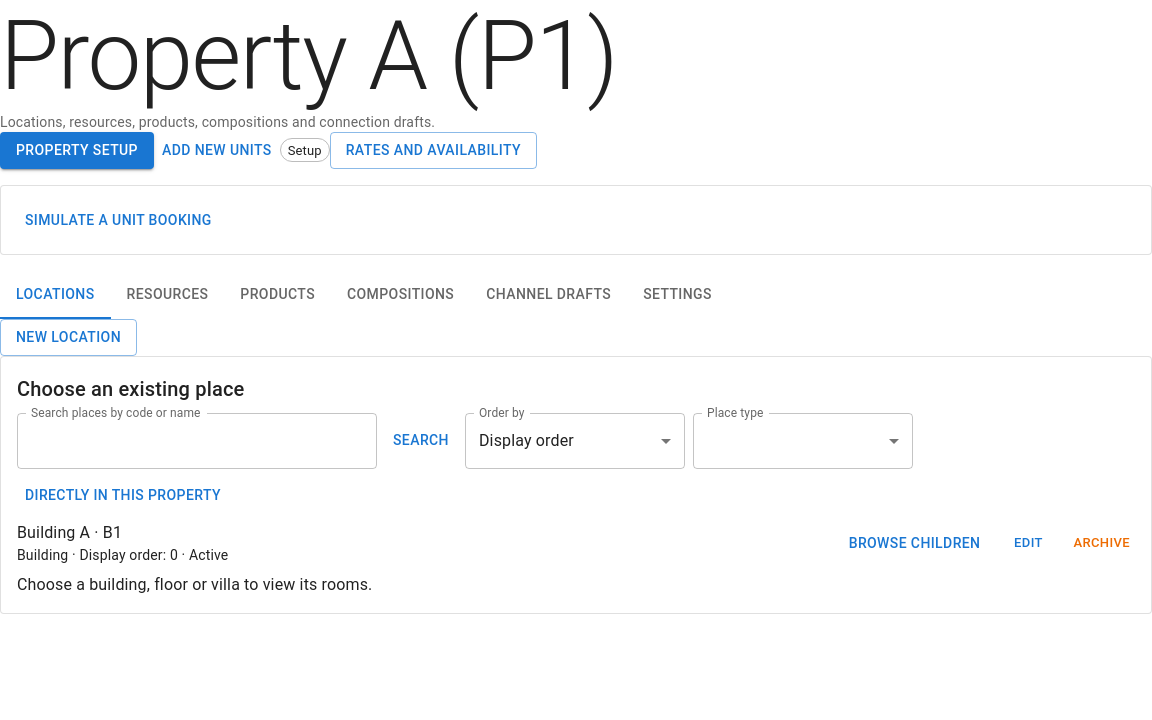
Scenario: independent: descendants stay forbidden as parents on every loaded page
Click the button "Edit".
click(1028, 543)  # box x1=996 y1=528 x2=1060 y2=558
(page scrolled)
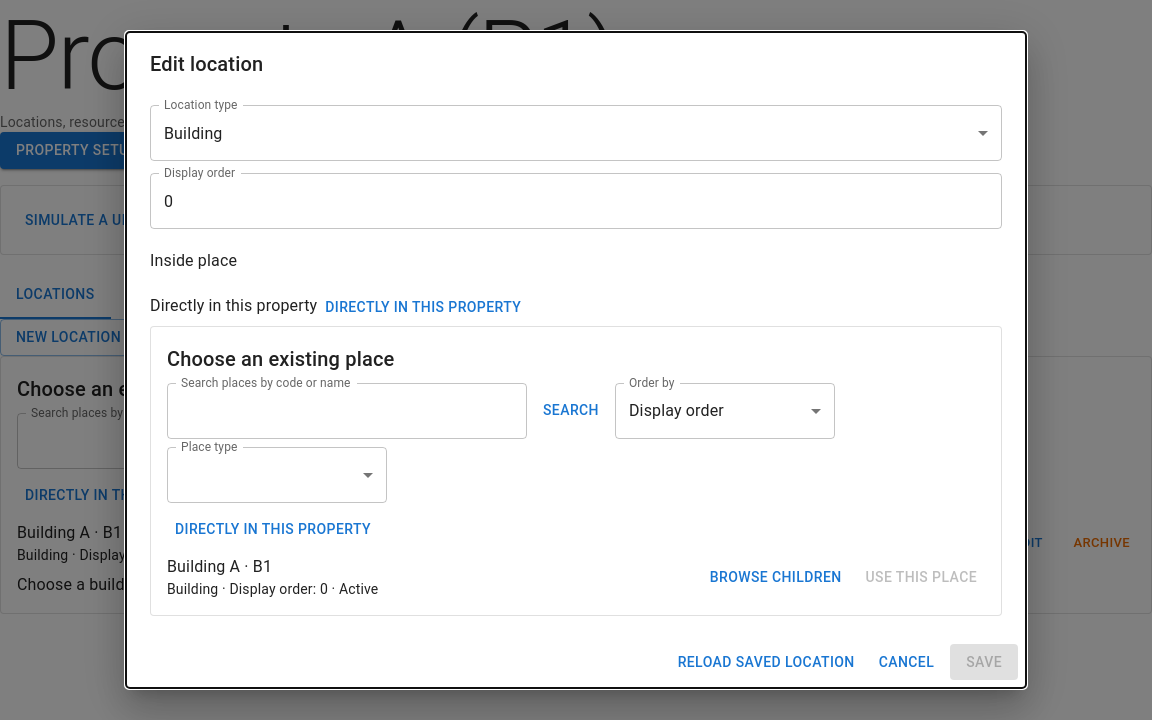
Now the button "Use this place" is disabled, box x1=858 y1=559 x2=985 y2=595
Click the button "Browse children".
click(776, 577)  # box x1=702 y1=559 x2=850 y2=595
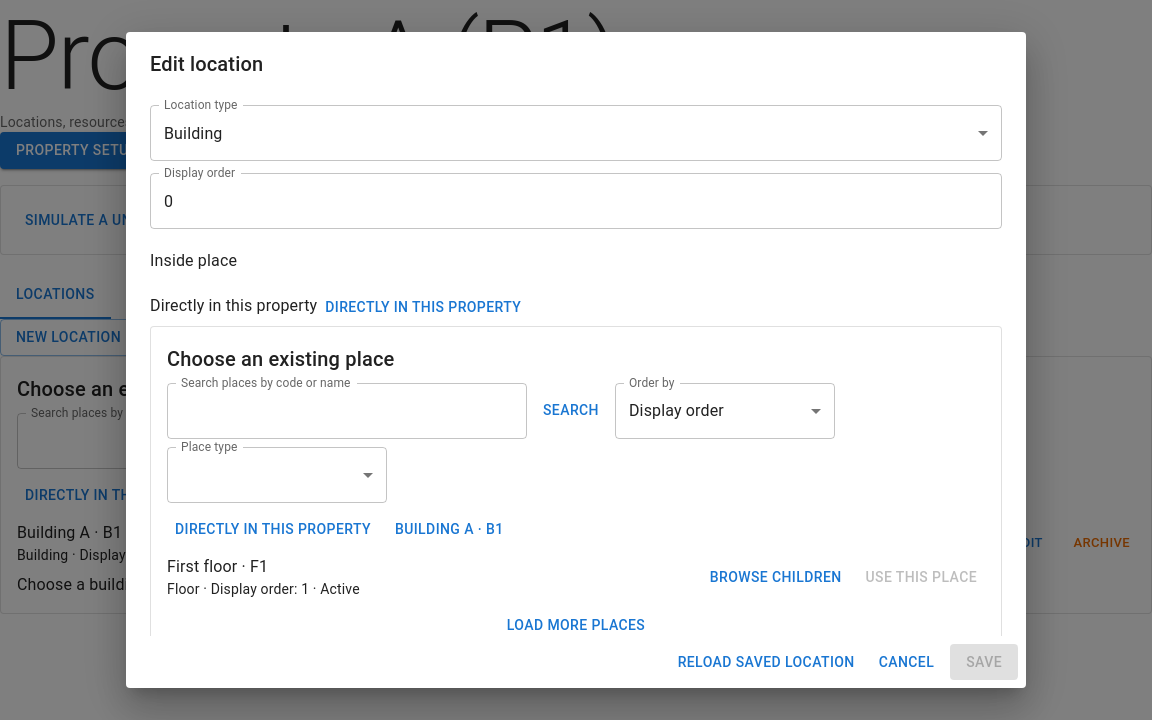
Now the text "First floor · F1" is shown, box x1=167 y1=557 x2=360 y2=597
Click the button "Load more places".
click(576, 625)  # box x1=167 y1=607 x2=985 y2=644
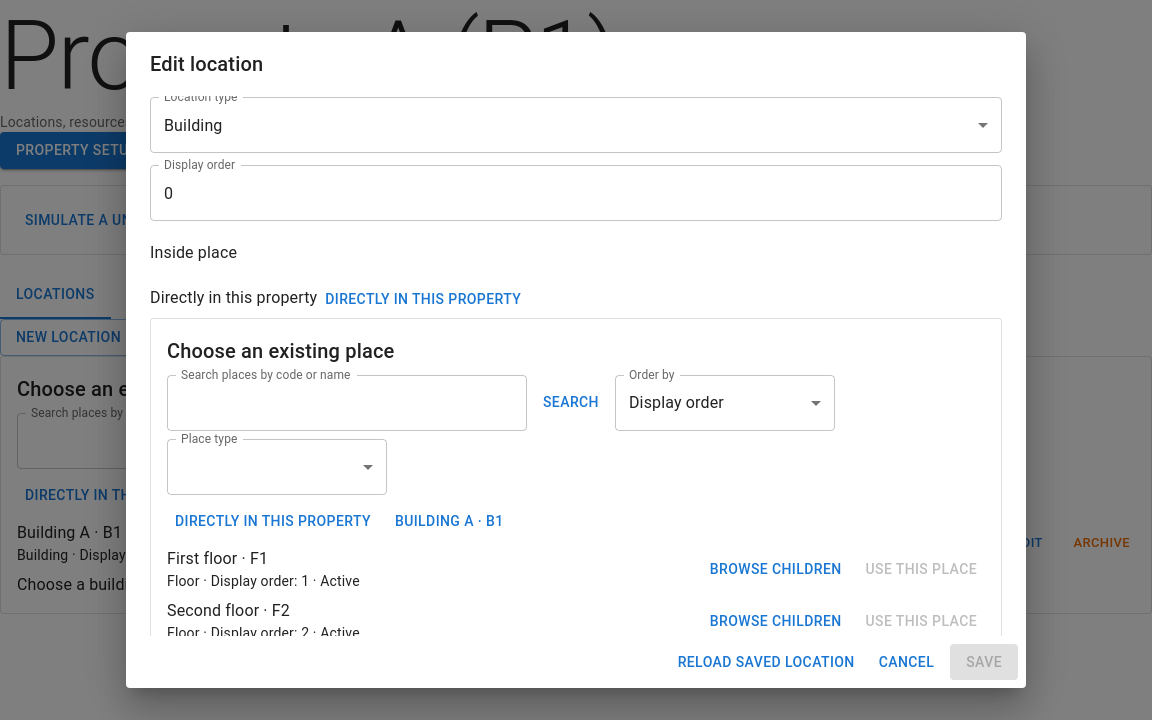
Now the button "Use this place" in the row of "F1" is disabled, box x1=858 y1=551 x2=985 y2=587
Now the text "Second floor · F2" is shown, box x1=167 y1=601 x2=360 y2=636
Now the number of buttons "Use this place" is 2, box x1=858 y1=551 x2=985 y2=587; x1=858 y1=603 x2=985 y2=636
